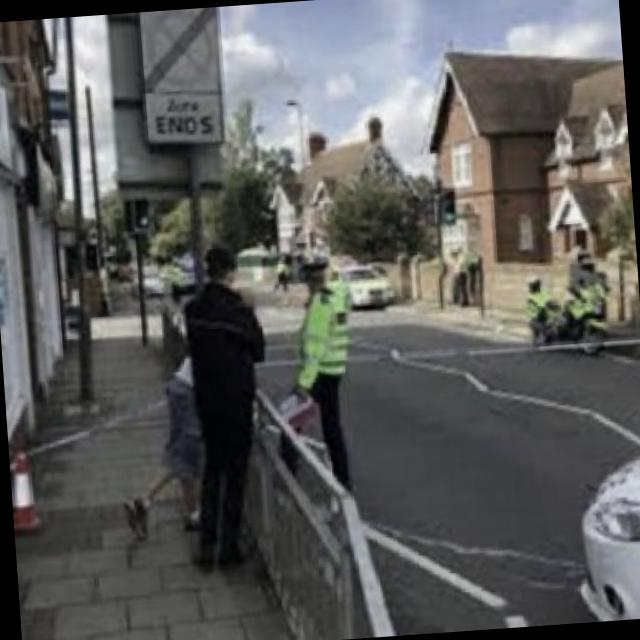Person: (164, 233, 265, 582), (282, 246, 356, 498)
